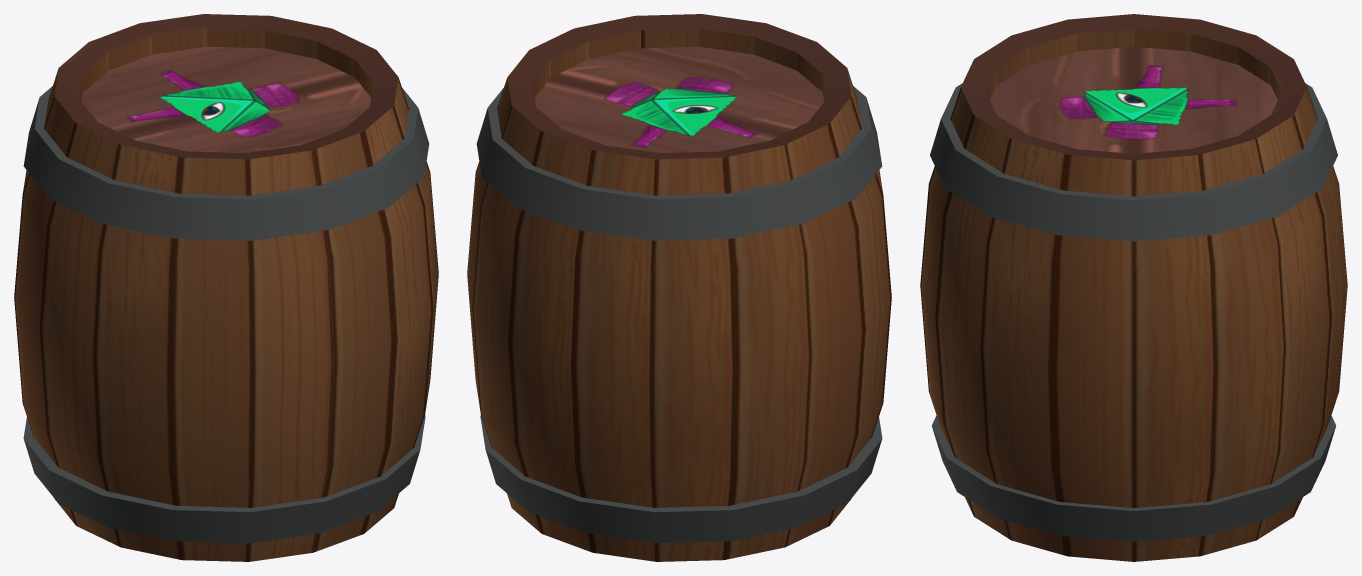
Rendered from Barrel.optimized.glb.
3 views of the same model, side by side, from view 1: azimuth 30°, elevation 25°; view 2: azimuth 150°, elevation 25°; view 3: azimuth 270°, elevation 25° (orthographic).
Visible parts, largest first — view 1: Barrel, Logo; view 2: Barrel, Logo; view 3: Barrel, Logo.
Part boxes in pixels (x1=…): Barrel: x1=14, y1=14, x2=438, y2=561; Logo: x1=127, y1=70, x2=299, y2=137; Barrel: x1=467, y1=14, x2=891, y2=561; Logo: x1=604, y1=77, x2=759, y2=147; Barrel: x1=920, y1=14, x2=1347, y2=561; Logo: x1=1059, y1=65, x2=1236, y2=139.
Size of what is drawn, in the model's own units: 1.16 by 1.2 by 1.16.
3 materials, 3 textured.
